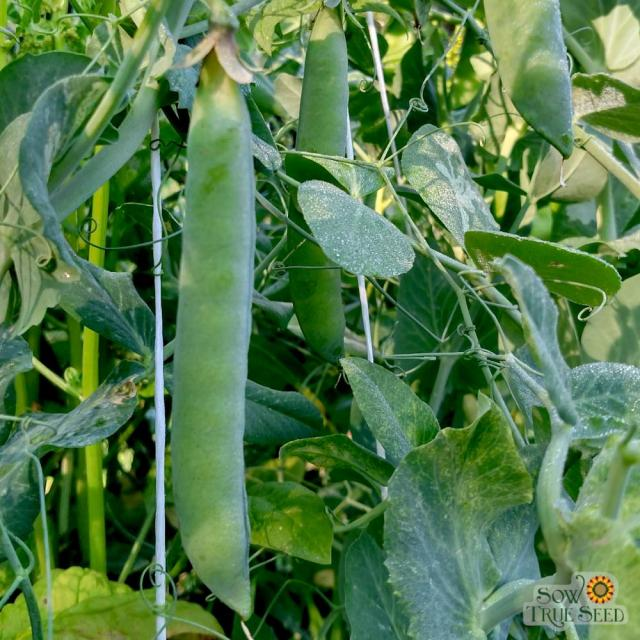Peas: (169, 41, 267, 606), (290, 5, 358, 372)
